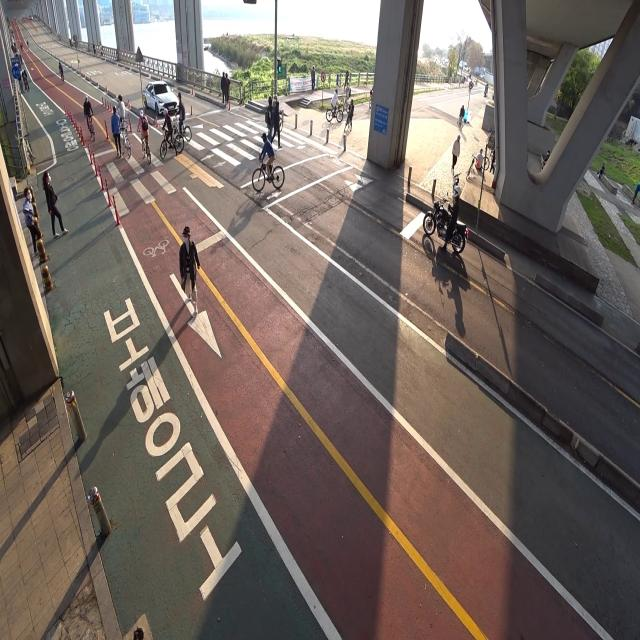Car: (138, 68, 182, 117)
Motorcycle: (422, 184, 467, 250)
